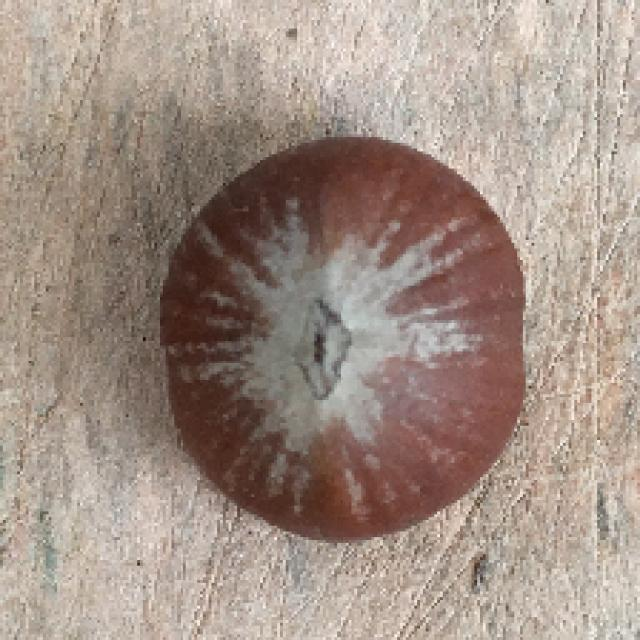qualityHazelnut: (145, 132, 533, 548)
